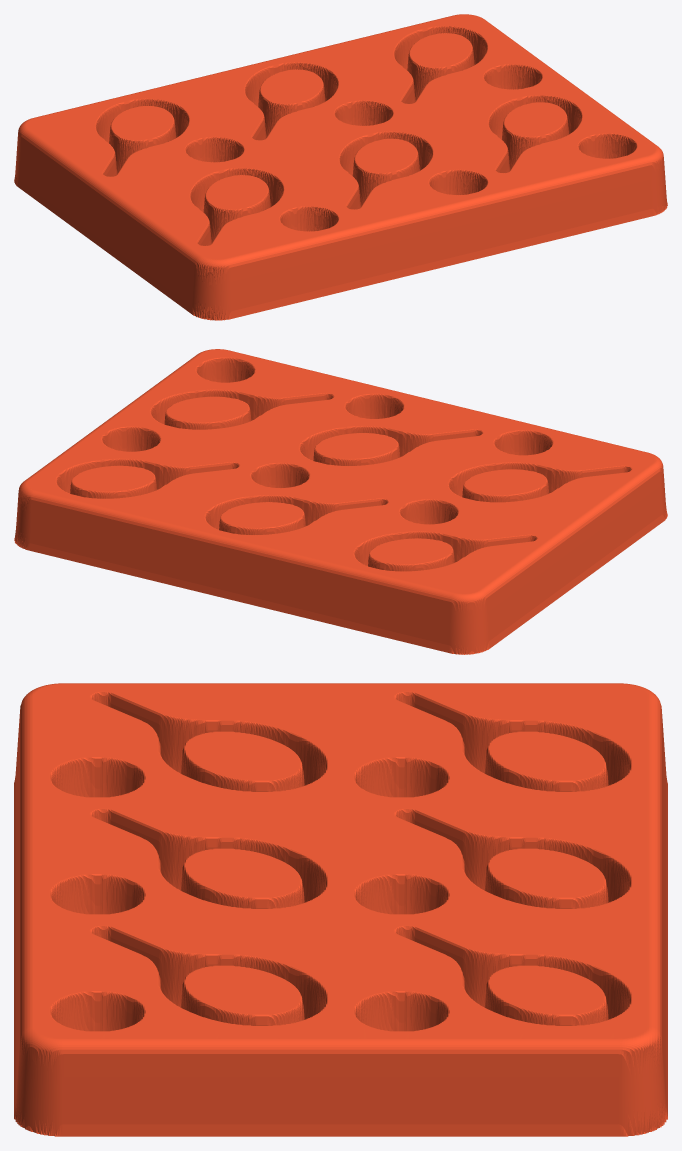
Rendered from mold.glb.
3 renders of one model, top to bottom at view 1: azimuth 30°, elevation 25°; view 2: azimuth 150°, elevation 25°; view 3: azimuth 270°, elevation 25°, orthographic. The views are drawn at different scales.
Parts seen in each view (by area): view 1: geometry_0; view 2: geometry_0; view 3: geometry_0.
Boxes of the visible parts, box(x1,y1,x2,y2) form: geometry_0: box(14, 14, 667, 320); geometry_0: box(14, 349, 667, 654); geometry_0: box(14, 683, 667, 1136).
Size of the model in its own units: 0.1639 by 0.0185 by 0.1222.
